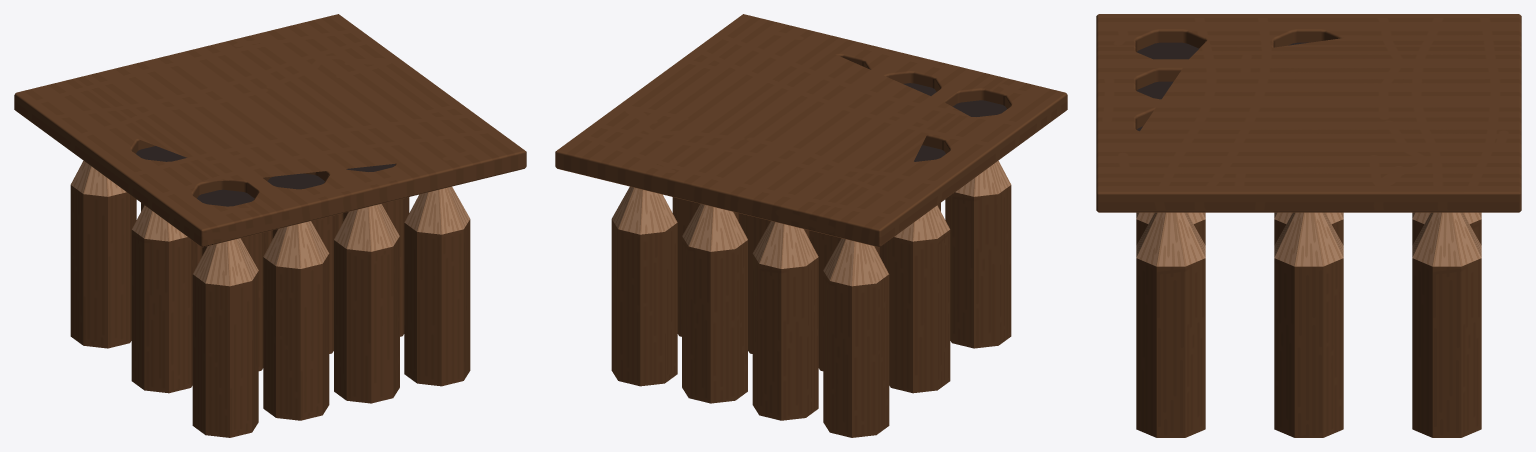
Rendered from spike_Trap_01.fbx.
The picture shows the model from 3 angles, left to right: view 1: azimuth 30°, elevation 25°; view 2: azimuth 150°, elevation 25°; view 3: azimuth 270°, elevation 25°; orthographic projection. The views are drawn at different scales.
Parts seen in each view (by area): view 1: Cone, Cube, Plane; view 2: Cone, Cube, Plane; view 3: Cube, Cone, Plane.
Part boxes in pixels (<box>): Cone: <box>70,160,470,437</box>; Cube: <box>14,14,526,247</box>; Plane: <box>136,146,395,206</box>; Cone: <box>611,160,1011,437</box>; Cube: <box>555,14,1067,247</box>; Plane: <box>903,83,1006,161</box>; Cube: <box>1096,14,1521,212</box>; Cone: <box>1136,212,1481,437</box>; Plane: <box>1137,42,1308,131</box>.
Bounding box in the file's own units: 200 × 136 × 200.
3 materials, 2 textured.
